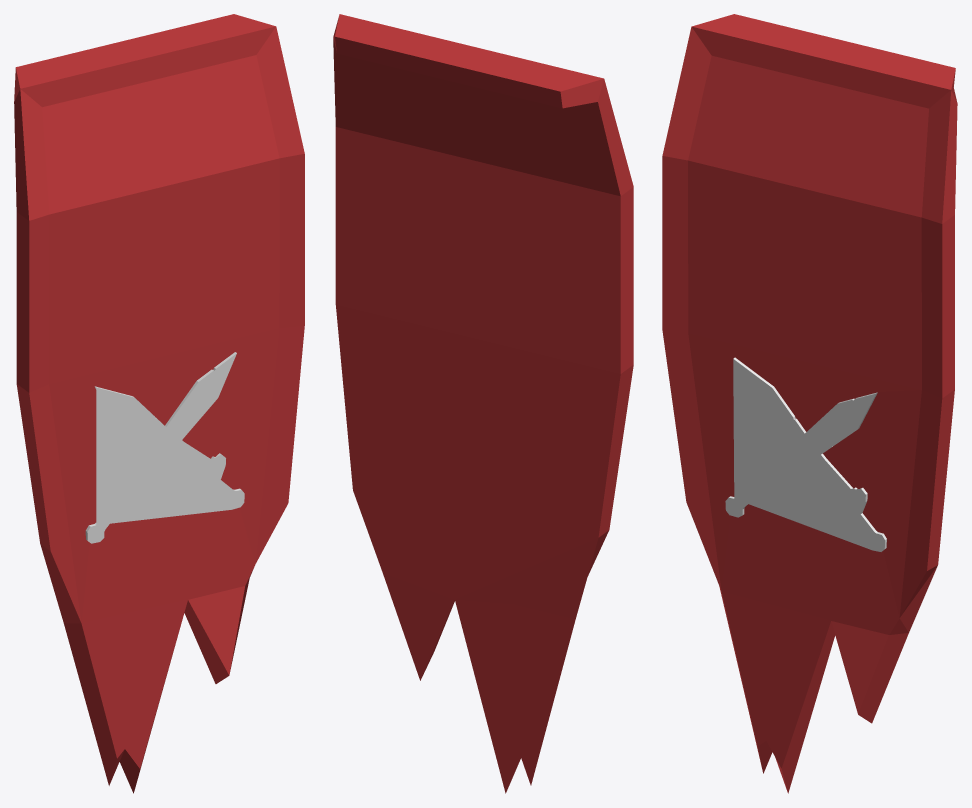
File: BannerSwordsTorn.fbx
The picture shows the model from 3 angles, left to right: view 1: azimuth 30°, elevation 25°; view 2: azimuth 150°, elevation 25°; view 3: azimuth 330°, elevation 25°; orthographic projection. The views are drawn at different scales.
Visible parts, largest first — view 1: BannerSwordsTorn; view 2: BannerSwordsTorn; view 3: BannerSwordsTorn.
Boxes of the visible parts, x1=… form: BannerSwordsTorn: x1=14, y1=14, x2=304, y2=793; BannerSwordsTorn: x1=333, y1=14, x2=633, y2=793; BannerSwordsTorn: x1=662, y1=14, x2=957, y2=793.
Bounding box in the file's own units: 85.66 × 215 × 24.67.
1 material, 1 textured.
